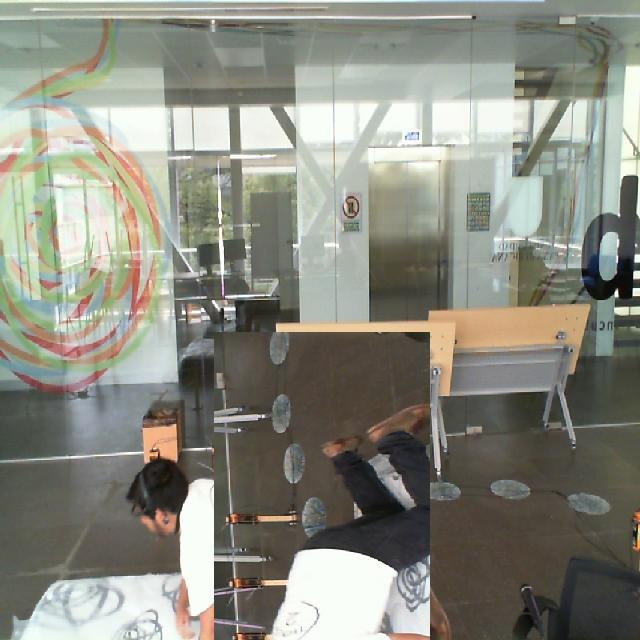NotFall: (230, 457, 458, 640)
